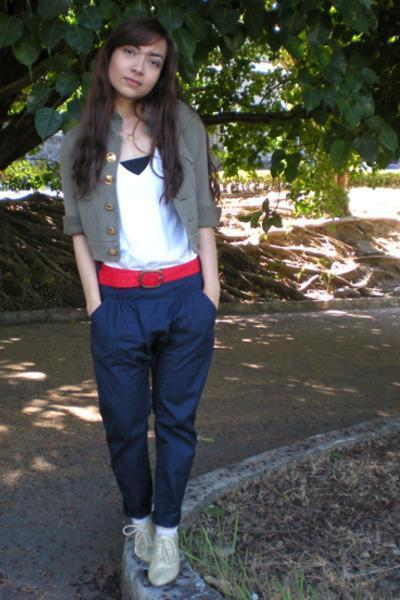jacket: (54, 89, 224, 264)
short sleeve shirt: (95, 127, 203, 278)
trousers: (80, 264, 225, 532)
